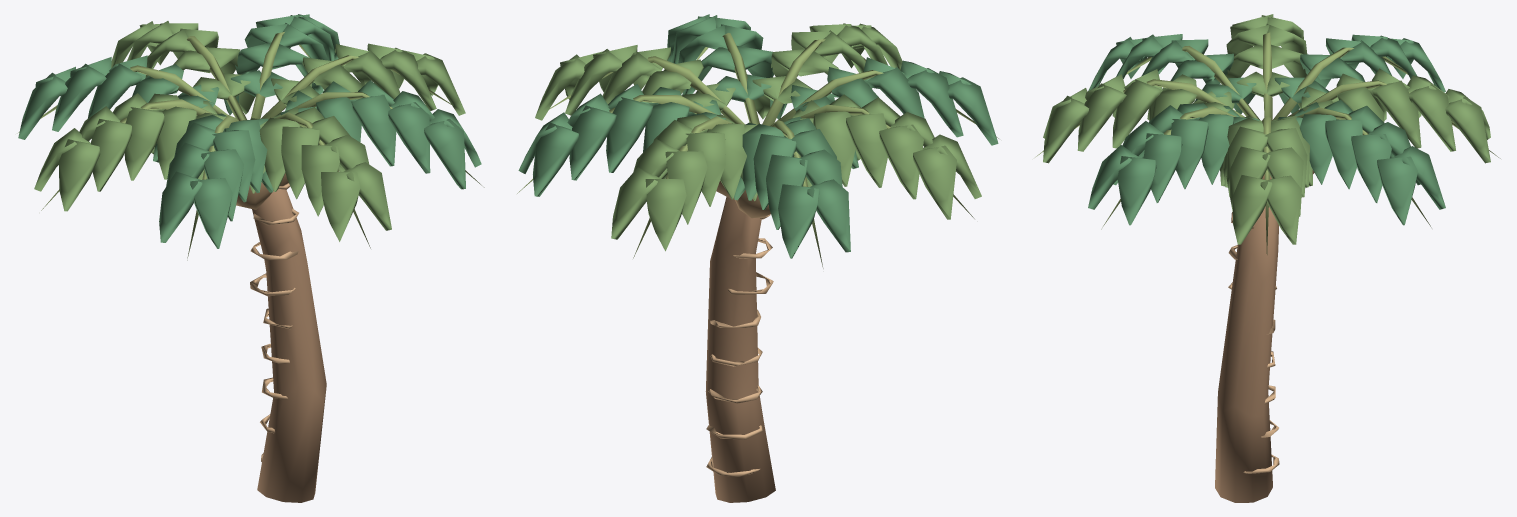
Rendered from tree.glb.
The picture shows the model from 3 angles, left to right: view 1: azimuth 30°, elevation 25°; view 2: azimuth 150°, elevation 25°; view 3: azimuth 270°, elevation 25°; orthographic projection. The views are drawn at different scales.
Visible parts, largest first — view 1: food_tree_painted_mesh; view 2: food_tree_painted_mesh; view 3: food_tree_painted_mesh.
Boxes of the visible parts, x1,y1,x2,y2 form: food_tree_painted_mesh: (17,14,484,502); food_tree_painted_mesh: (517,14,998,502); food_tree_painted_mesh: (1035,14,1500,502).
Size of the model in its own units: 2.26 by 2.11 by 2.26.
